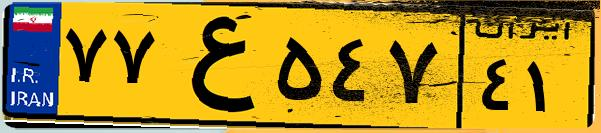1: (525, 38, 570, 115)
4: (330, 28, 385, 110), (475, 38, 525, 113)
5: (270, 28, 330, 110)
7: (385, 28, 445, 110), (57, 26, 110, 100), (110, 28, 158, 98)
ع: (158, 12, 270, 120)
